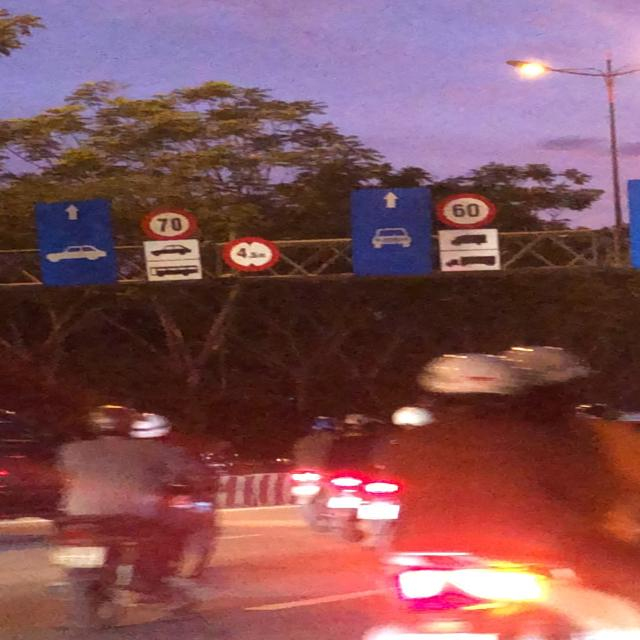Bien bao han che chieu cao: (215, 235, 281, 276)
Bien bao toc do toi da cho phep: (431, 192, 498, 232), (133, 204, 197, 242)
